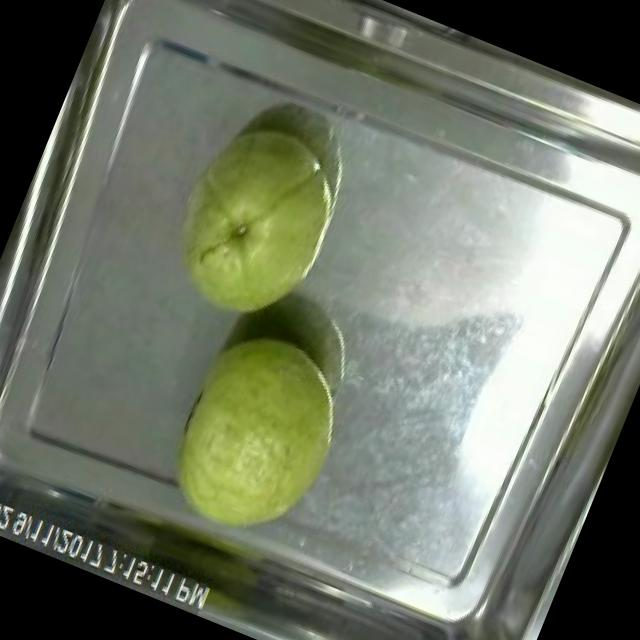Fruit: (140, 306, 372, 566), (140, 98, 368, 349)
